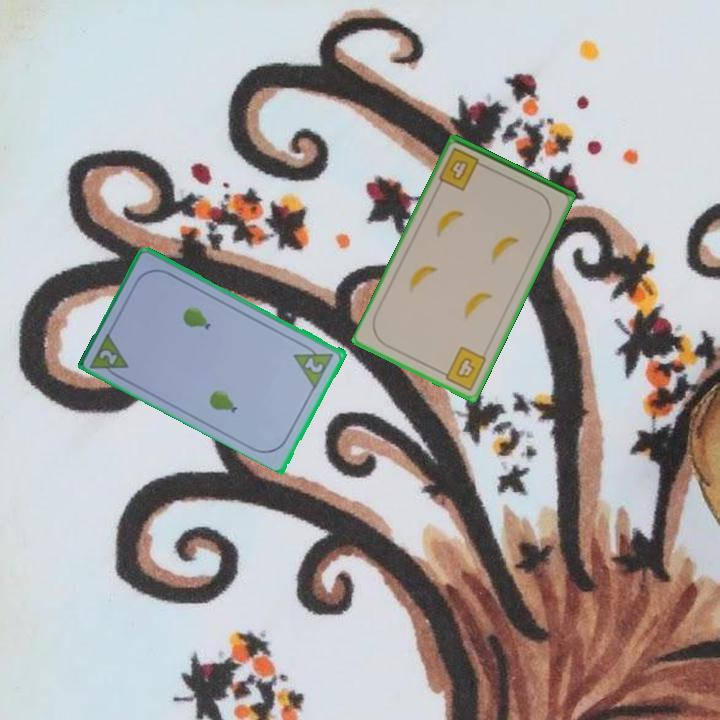2p: (87, 328, 132, 383), (301, 353, 326, 376)
4b: (436, 343, 490, 394), (435, 144, 489, 194)
